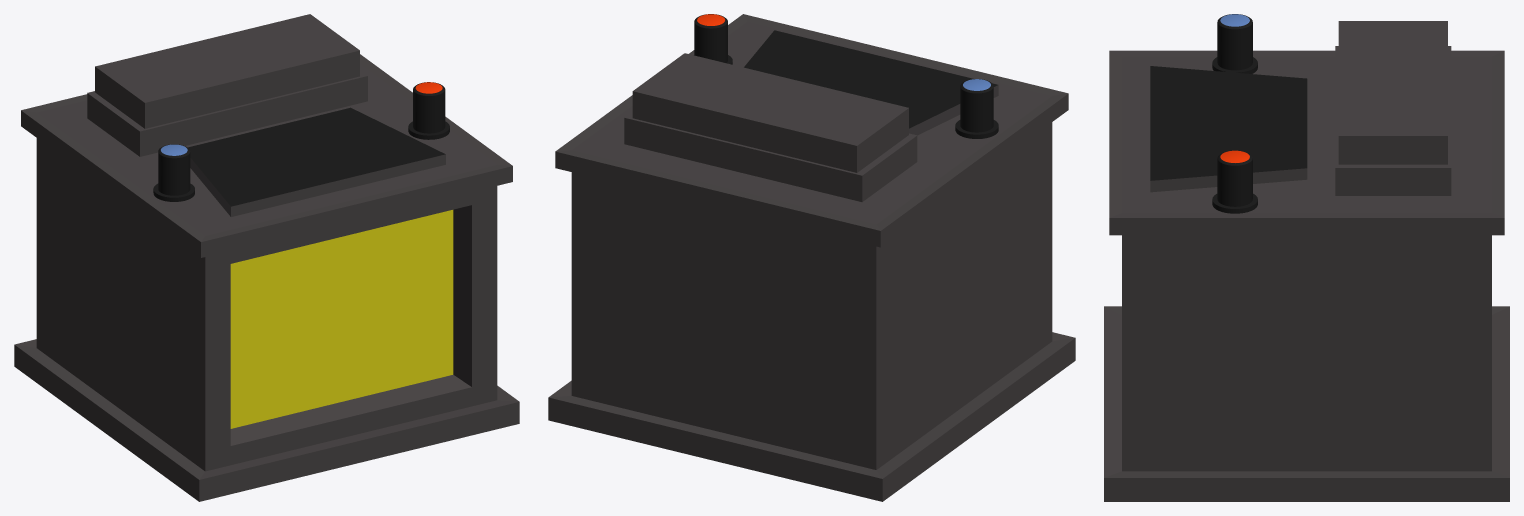
File: d_Battery.fbx
3 renders of one model, left to right at view 1: azimuth 30°, elevation 25°; view 2: azimuth 150°, elevation 25°; view 3: azimuth 270°, elevation 25°, orthographic. The views are drawn at different scales.
Parts seen in each view (by area): view 1: Cylinder.017; view 2: Cylinder.017; view 3: Cylinder.017.
Part boxes in pixels (left/top/right/bottom): Cylinder.017: left=14, top=14, right=519, bottom=501; Cylinder.017: left=548, top=14, right=1075, bottom=501; Cylinder.017: left=1104, top=14, right=1509, bottom=501.
Size of the model in its own units: 15.99 by 14.68 by 15.99.
